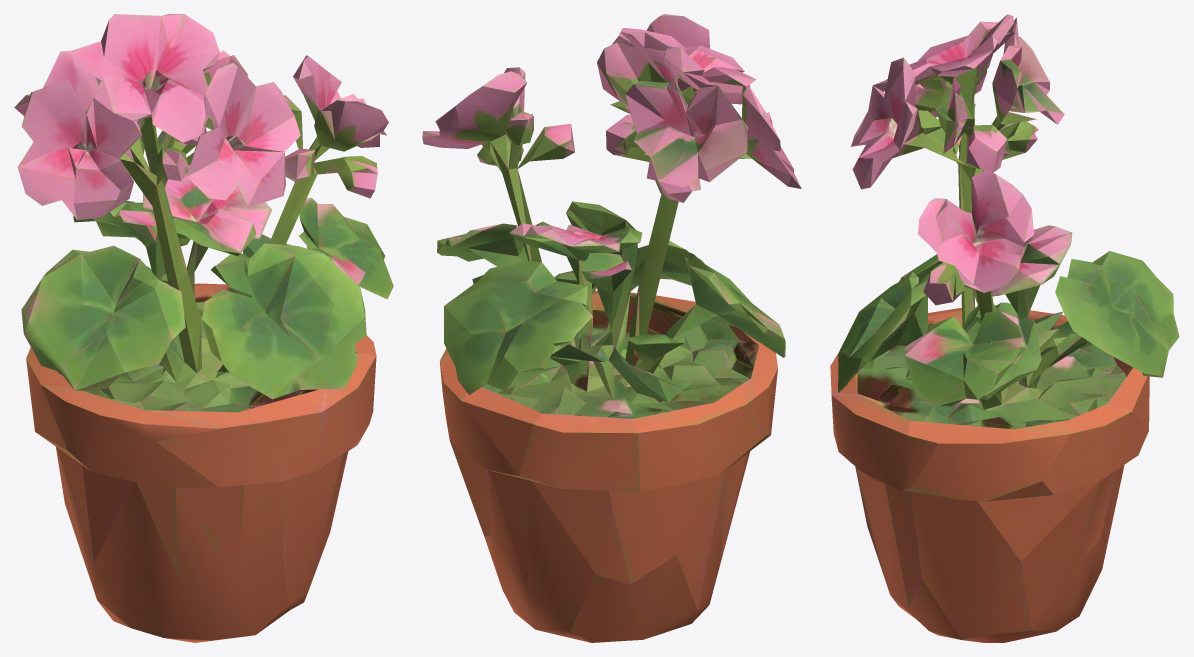
Rendered from flower-pot.glb.
The picture shows the model from 3 angles, left to right: view 1: azimuth 30°, elevation 25°; view 2: azimuth 150°, elevation 25°; view 3: azimuth 270°, elevation 25°; orthographic projection. The views are drawn at different scales.
Parts seen in each view (by area): view 1: flower-pot-fit; view 2: flower-pot-fit; view 3: flower-pot-fit.
Part boxes in pixels (x1,y1,x2,y2): flower-pot-fit: (14,14,393,642); flower-pot-fit: (422,14,801,642); flower-pot-fit: (830,14,1179,642).
Bounding box in the file's own units: 0.3836 × 0.6 × 0.3395.
Materials: 1 (1 with a texture image).
